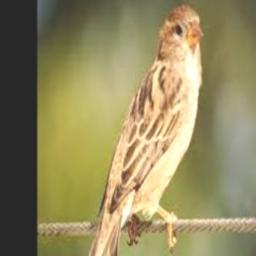Sparrow: (73, 4, 203, 256)
